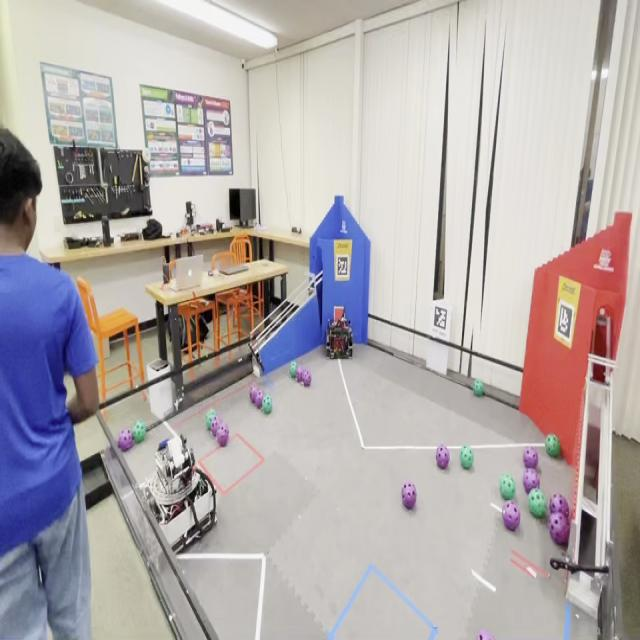artifact_green: (528, 488, 547, 518), (500, 473, 515, 500), (132, 420, 147, 443), (546, 434, 560, 457), (460, 446, 473, 469), (210, 415, 222, 438), (206, 409, 216, 430), (262, 394, 272, 414), (473, 380, 484, 397), (290, 361, 297, 379)
artifact_purple: (548, 512, 569, 546), (502, 500, 521, 531), (549, 494, 569, 520), (523, 469, 539, 494), (402, 483, 416, 509), (523, 447, 538, 470), (118, 430, 133, 451), (436, 445, 449, 469), (216, 424, 229, 446), (211, 416, 221, 437), (254, 389, 263, 408), (476, 630, 494, 639), (302, 370, 311, 387), (296, 368, 305, 382), (250, 384, 257, 402)
